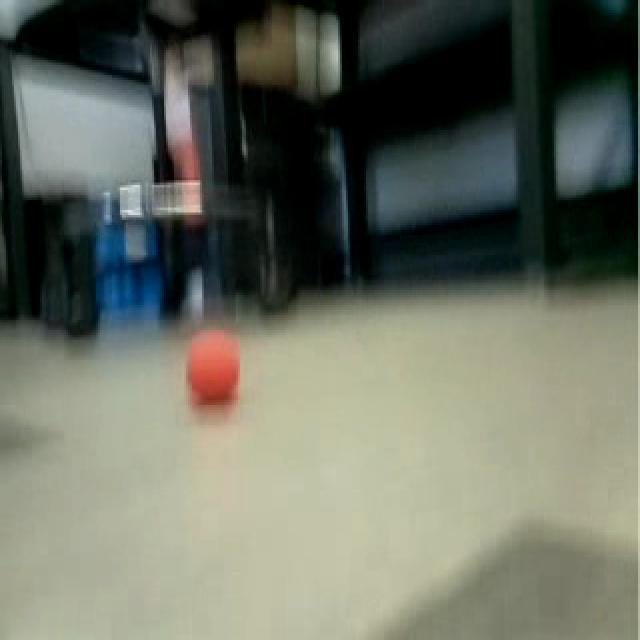oball: (187, 324, 240, 402)
